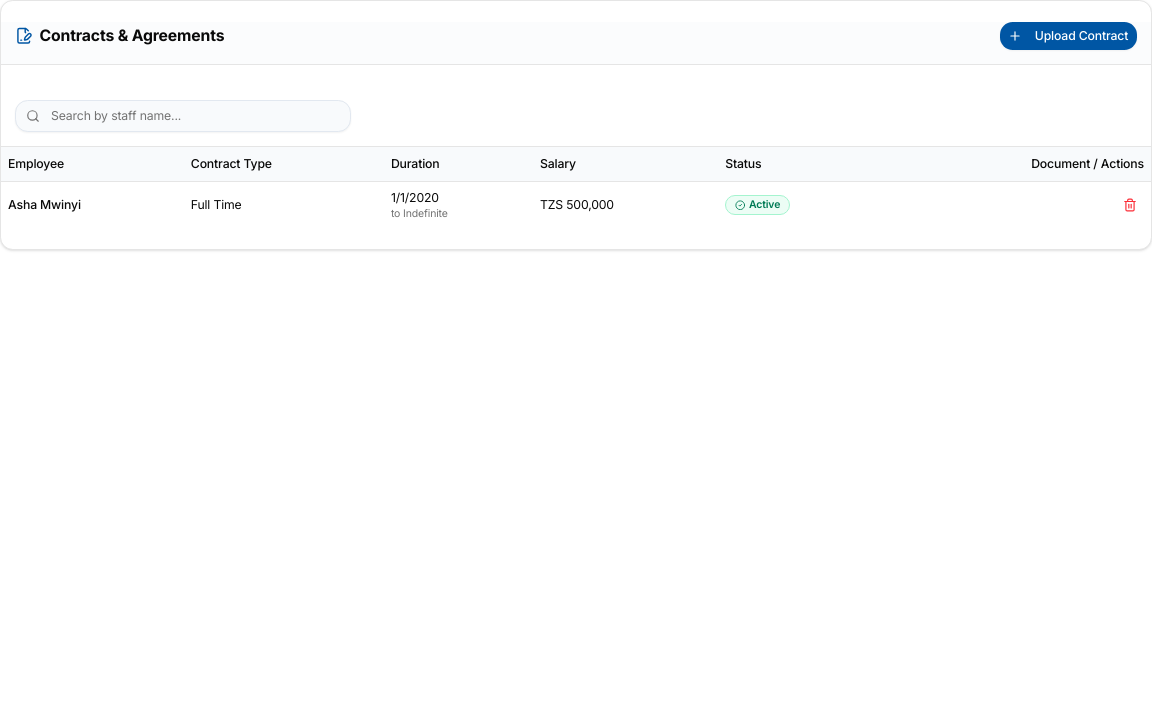
HRContractsSubtab › submits a new contract without a document and prepends it to the list
Click the button "Upload Contract".
click(1068, 36)  # box [1000,22,1137,50]
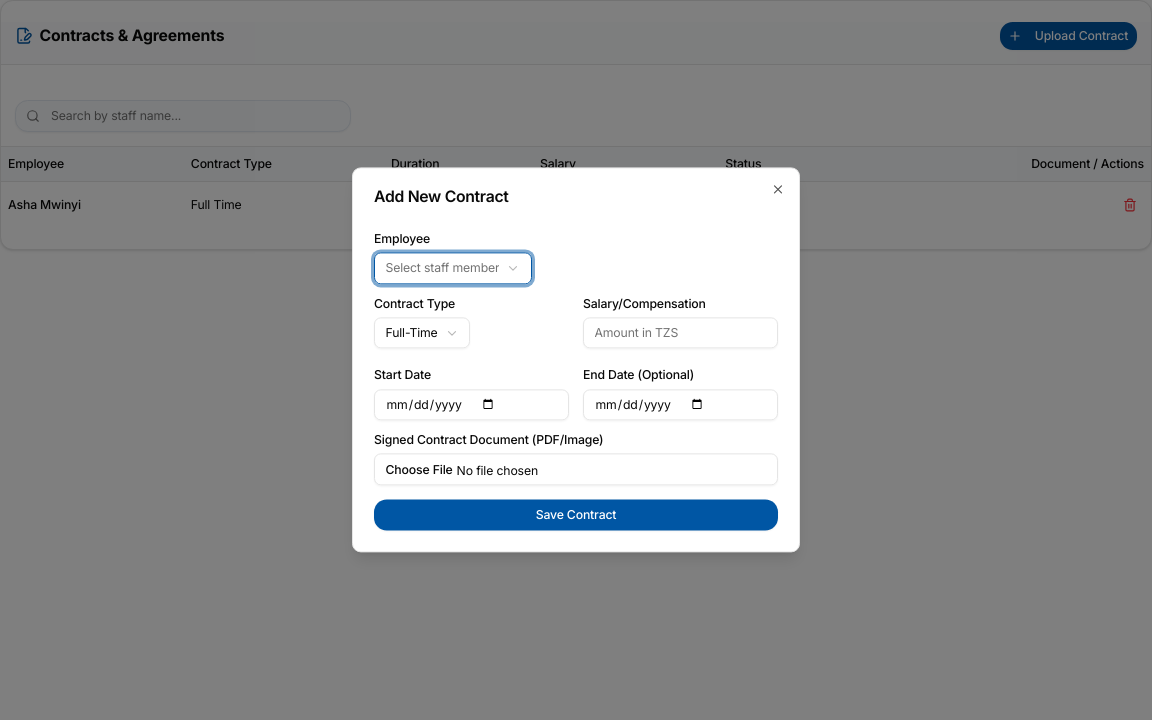
Click the dropdown labelled "Select staff member".
click(453, 268)  # box [374,252,532,284]
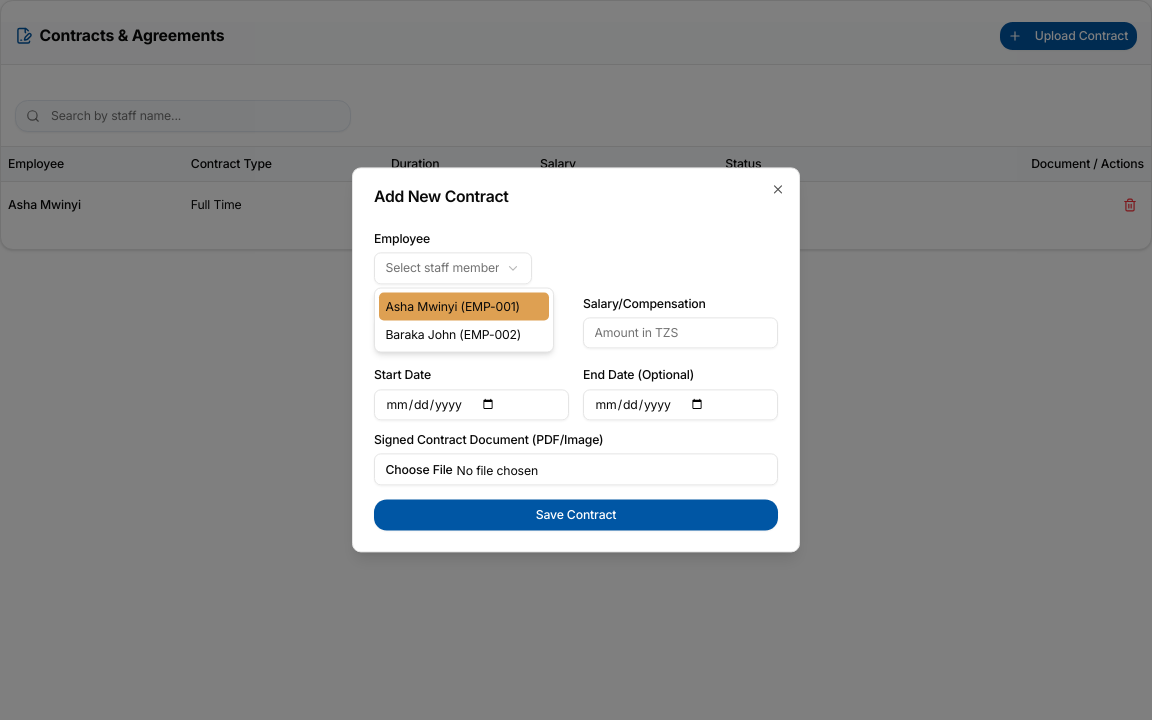
Click the option "Baraka John (EMP-002)".
click(453, 334)  # box [386,326,521,341]
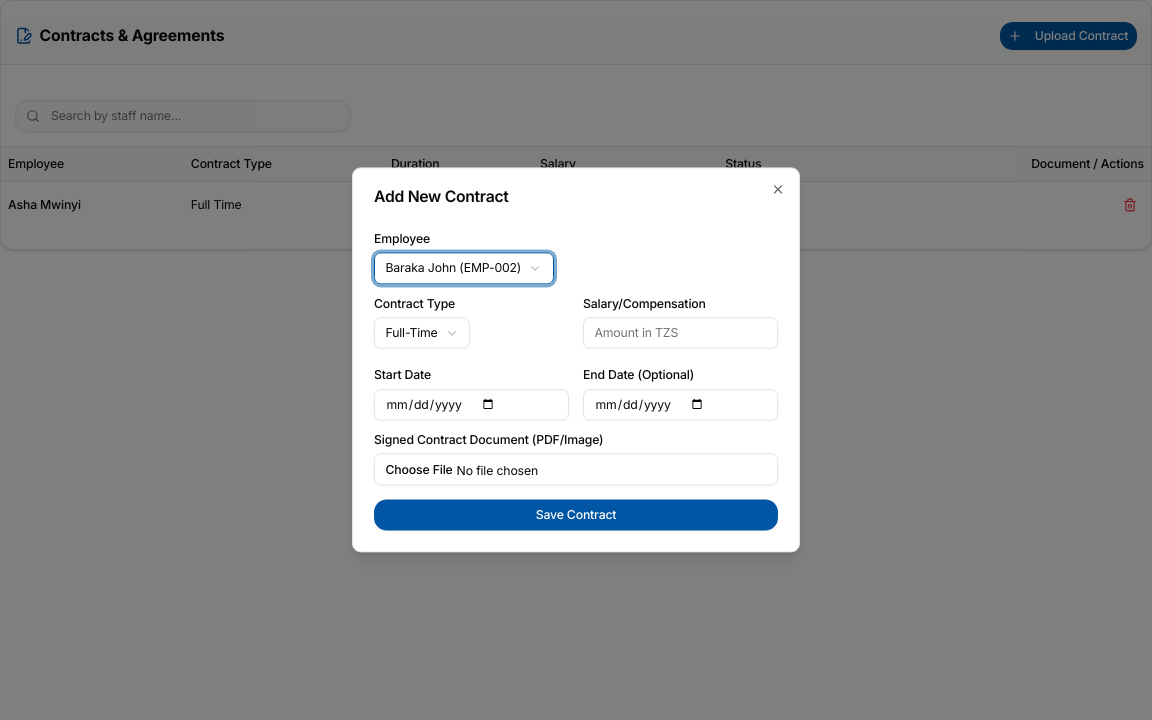
Type "2026-01-01" into the date field below "Start Date".
click(472, 405); type("2026-01-01")  # box [374,389,569,420]
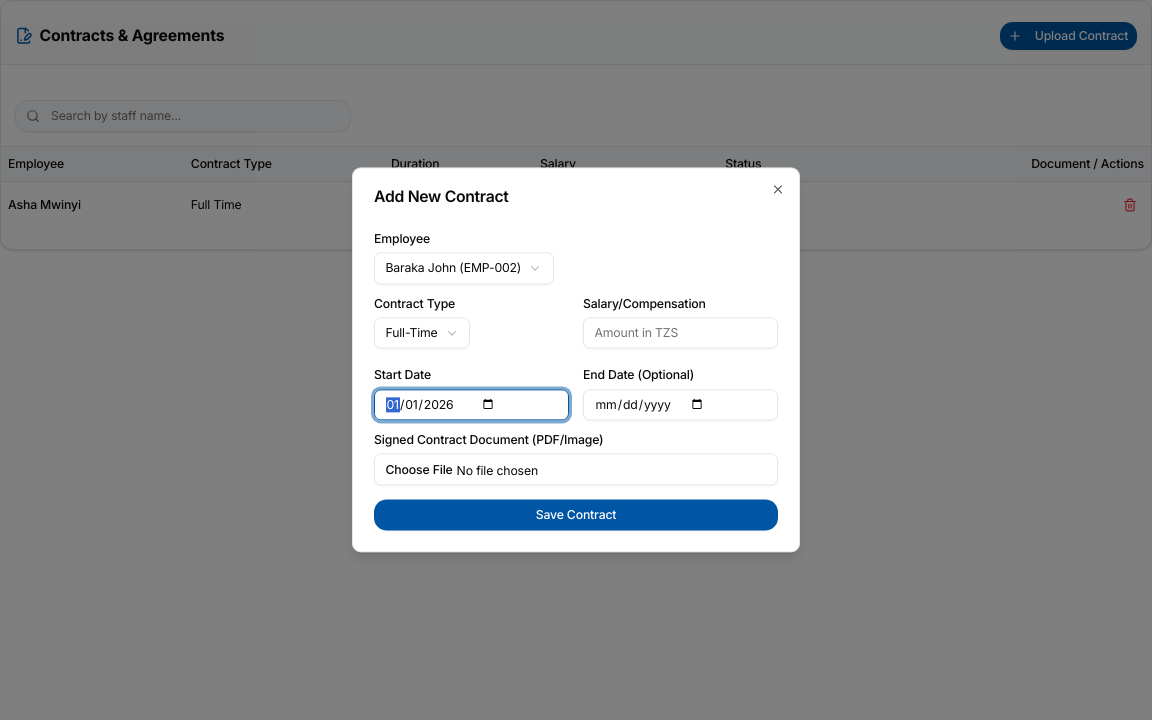
Click the button "Save Contract".
click(576, 515)  # box [374,499,778,531]
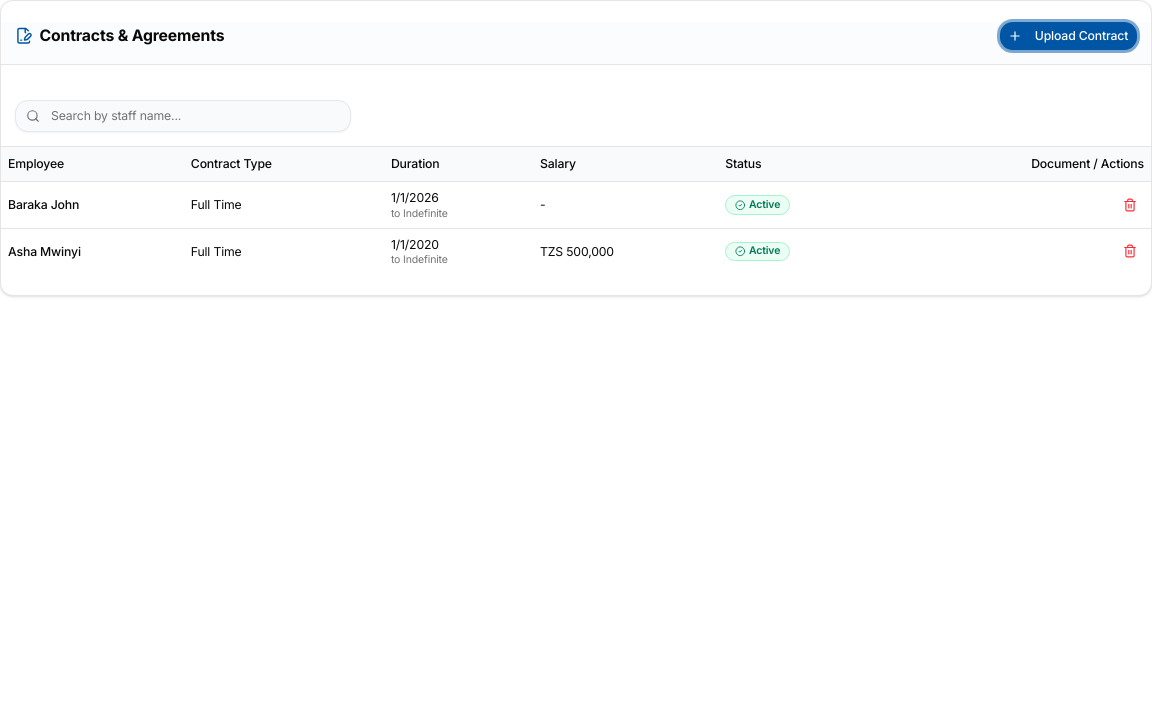
Now the text "Baraka John" is shown, box [1,182,184,228]
Now the dialog is gone
